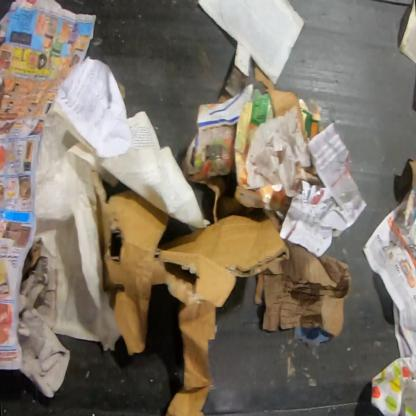cardboard: (97, 189, 289, 416), (254, 242, 353, 338), (254, 81, 306, 143), (298, 98, 323, 143), (254, 60, 274, 90), (409, 160, 416, 189)
